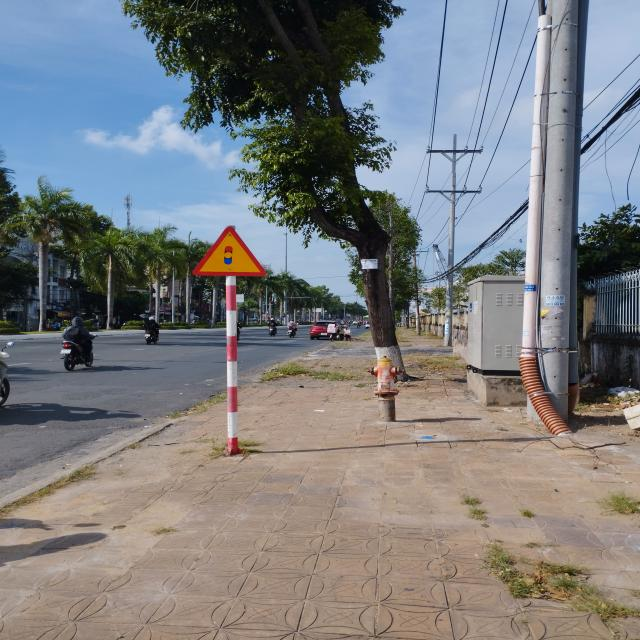Duong_Co_Go_Giam_Toc: (192, 226, 266, 276)
